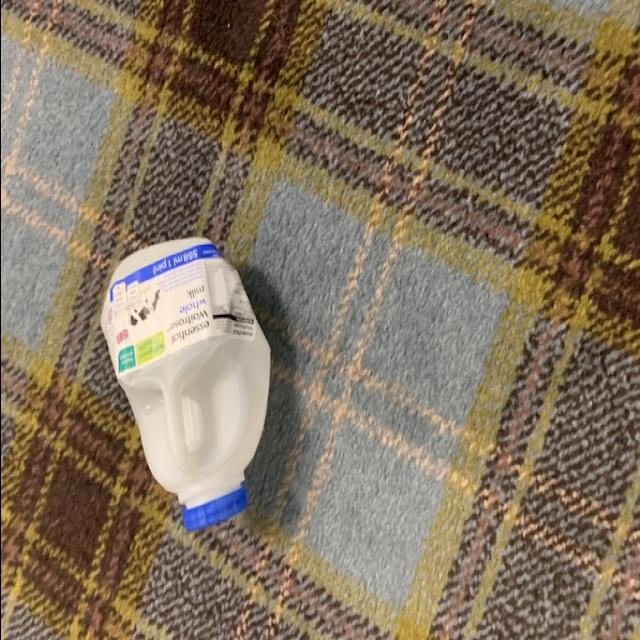HDPEM: (92, 234, 278, 534)
